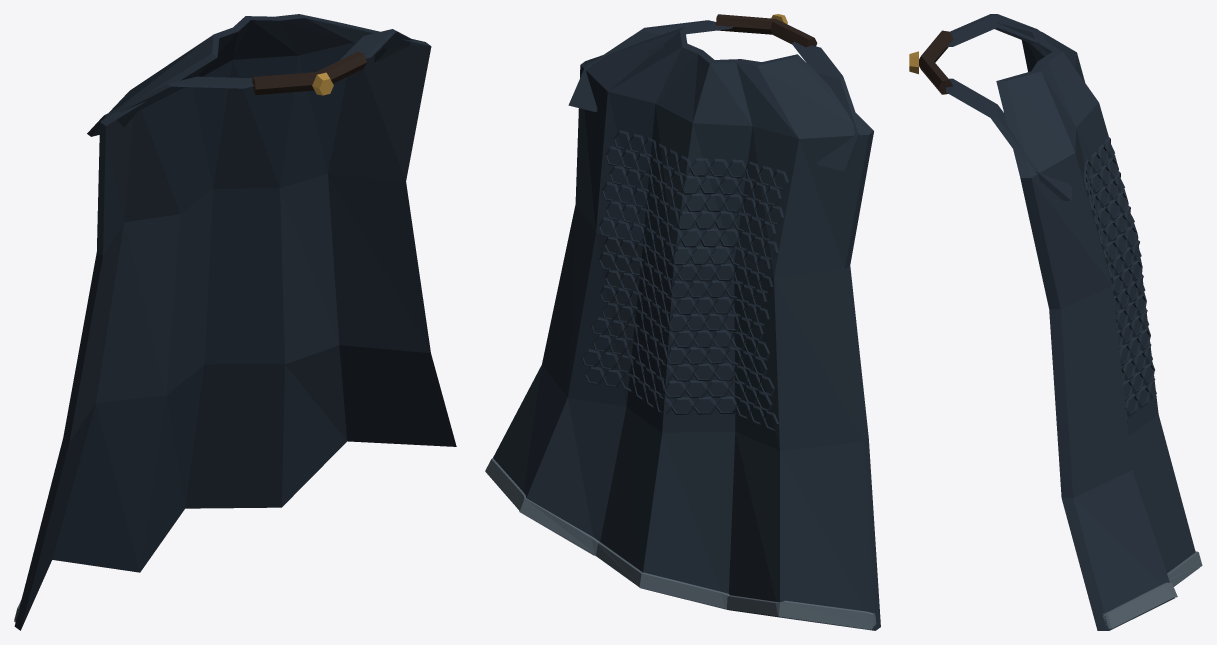
File: ring_back-female.glb
3 views of the same model, side by side, from view 1: azimuth 30°, elevation 25°; view 2: azimuth 150°, elevation 25°; view 3: azimuth 270°, elevation 25° (orthographic). The views are drawn at different scales.
Visible parts, largest first — view 1: ring draped back mantle, Mantle neck fastening, Mantle shoulder fall -1, Mantle shoulder fall 1; view 2: ring draped back mantle, ring woven coverage on ring draped back mantle, Mantle weighted bound hem, Mantle shoulder fall -1, Mantle shoulder fall 1, Mantle neck fastening; view 3: ring draped back mantle, ring woven coverage on ring draped back mantle, Mantle shoulder fall 1, Mantle weighted bound hem, Mantle shoulder fall -1, Mantle neck fastening.
Part boxes in pixels (box(x1,y1,x2,y2)): ring draped back mantle: box(14, 14, 456, 630); Mantle neck fastening: box(252, 51, 366, 94); Mantle shoulder fall -1: box(87, 76, 253, 136); Mantle shoulder fall 1: box(339, 29, 412, 62); ring draped back mantle: box(487, 27, 880, 630); ring woven coverage on ring draped back mantle: box(581, 130, 788, 431); Mantle weighted bound hem: box(485, 458, 876, 629); Mantle shoulder fall -1: box(792, 41, 859, 171); Mantle shoulder fall 1: box(568, 20, 733, 111); Mantle neck fastening: box(716, 14, 817, 47); ring draped back mantle: box(996, 22, 1198, 630); ring woven coverage on ring draped back mantle: box(1083, 137, 1156, 424); Mantle shoulder fall 1: box(946, 78, 1071, 200); Mantle weighted bound hem: box(1102, 551, 1202, 628); Mantle shoulder fall -1: box(947, 14, 1046, 56); Mantle neck fastening: box(919, 30, 953, 94).
Size of the model in its own units: 2.65 by 3.32 by 1.62.
